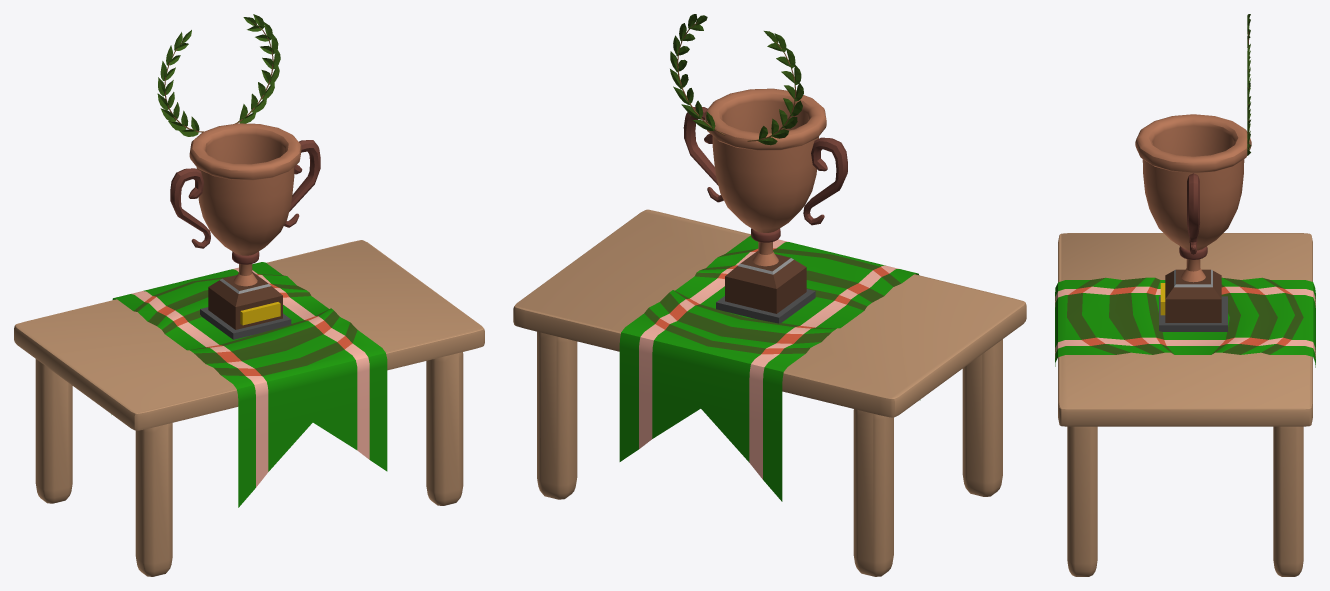
Rendered from l_trophy_bronze.glb.
The picture shows the model from 3 angles, left to right: view 1: azimuth 30°, elevation 25°; view 2: azimuth 150°, elevation 25°; view 3: azimuth 270°, elevation 25°; orthographic projection. The views are drawn at different scales.
Visible parts, largest first — view 1: Trophy_Bronze; view 2: Trophy_Bronze; view 3: Trophy_Bronze.
Boxes of the visible parts, <box> form: Trophy_Bronze: <box>14,14,484,576</box>; Trophy_Bronze: <box>513,14,1026,576</box>; Trophy_Bronze: <box>1055,14,1315,576</box>.
Bounding box in the file's own units: 1.3 × 1.6 × 0.8077.
Materials: 2 (2 with a texture image).
